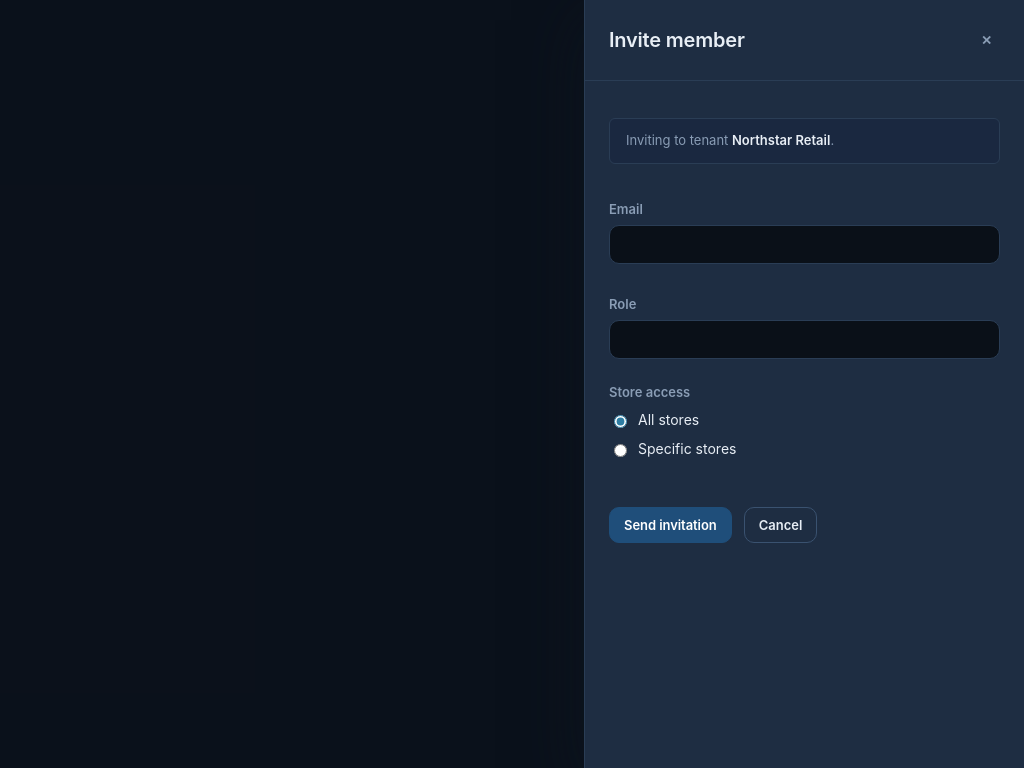
InviteMember outcomes › 409 pending -> distinct 'already pending' warning
Type "new@northstar.eg" into the field labelled "Email".
click(804, 244); type("new@northstar.eg")  # box top-left (609, 225), bottom-right (1000, 264)
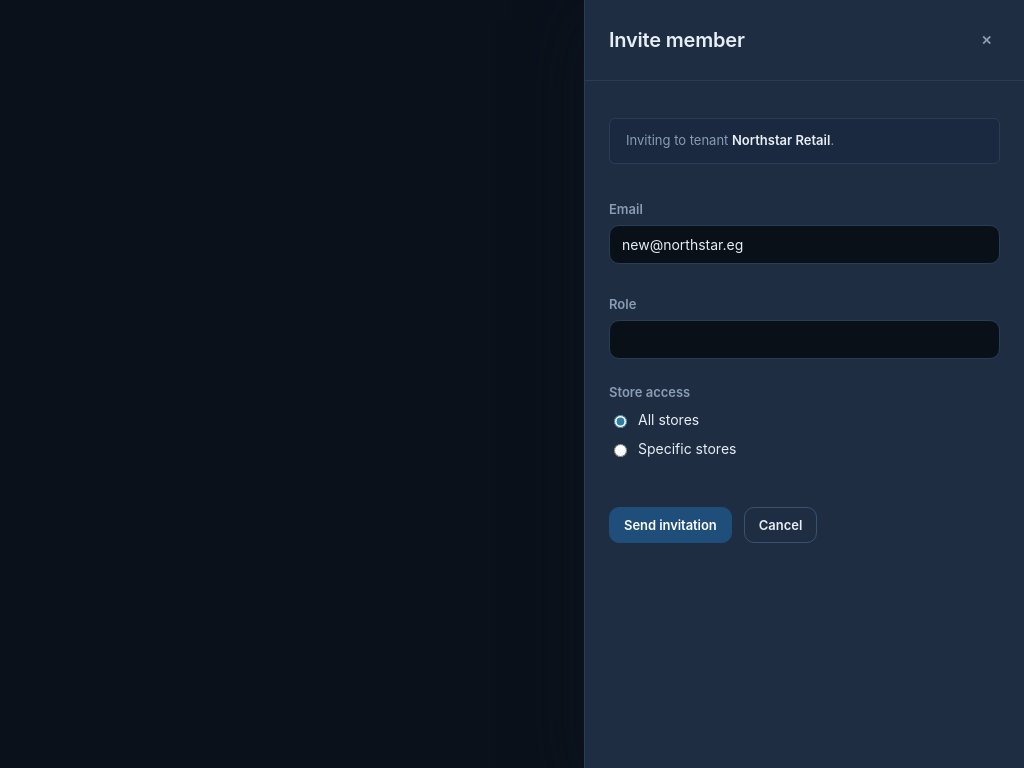
Type "store_staff" into the field labelled "Role".
click(804, 340); type("store_staff")  # box top-left (609, 320), bottom-right (1000, 359)
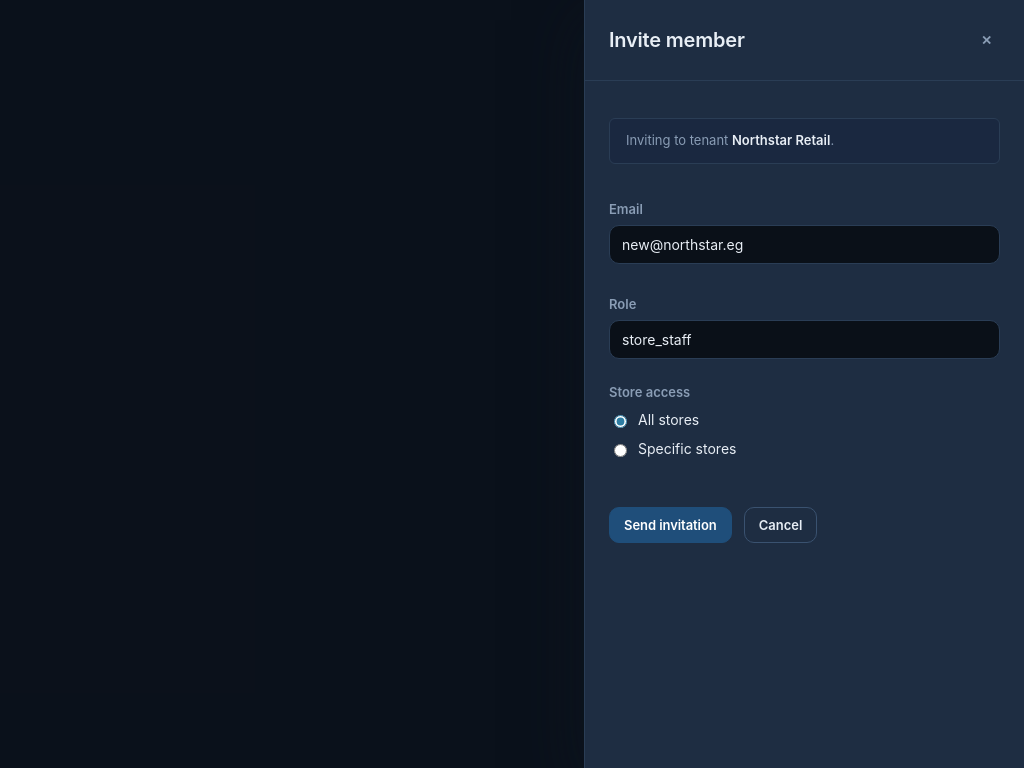
Click the button "Send invitation".
click(670, 525)  # box top-left (609, 507), bottom-right (732, 543)
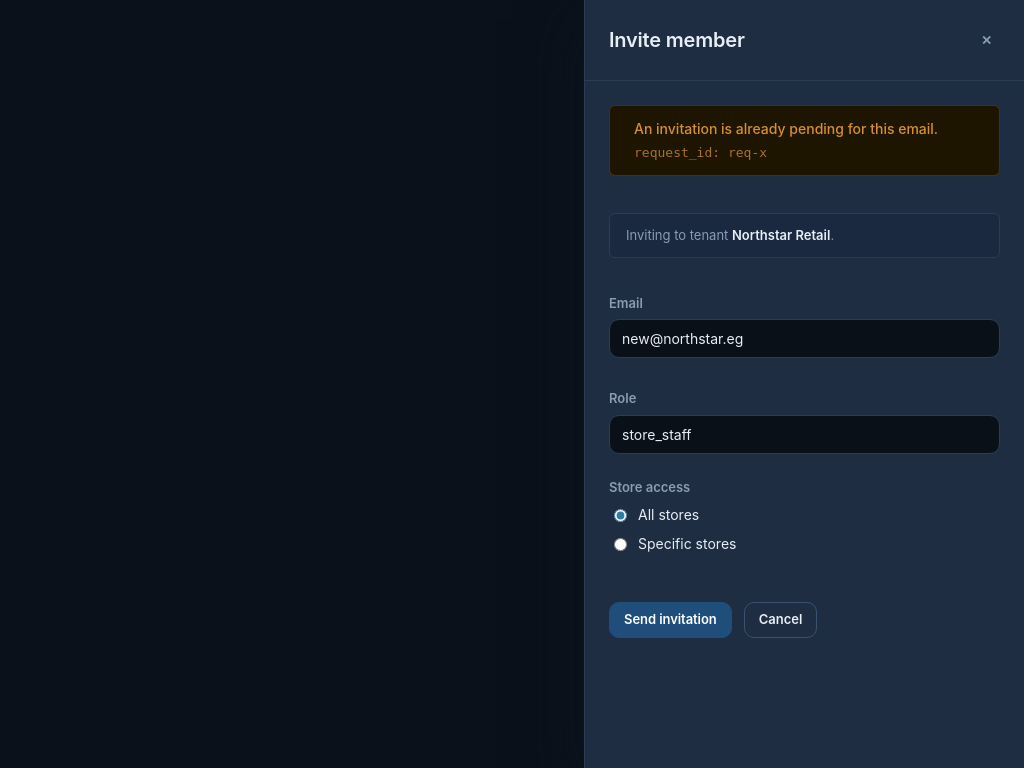
Now the text "An invitation is already pending for this email." is shown, box top-left (634, 118), bottom-right (975, 139)
